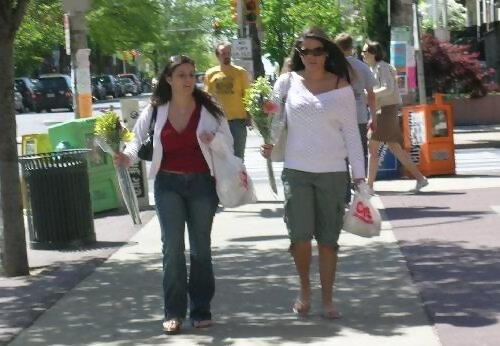person: (137, 53, 250, 334), (271, 28, 370, 323)
